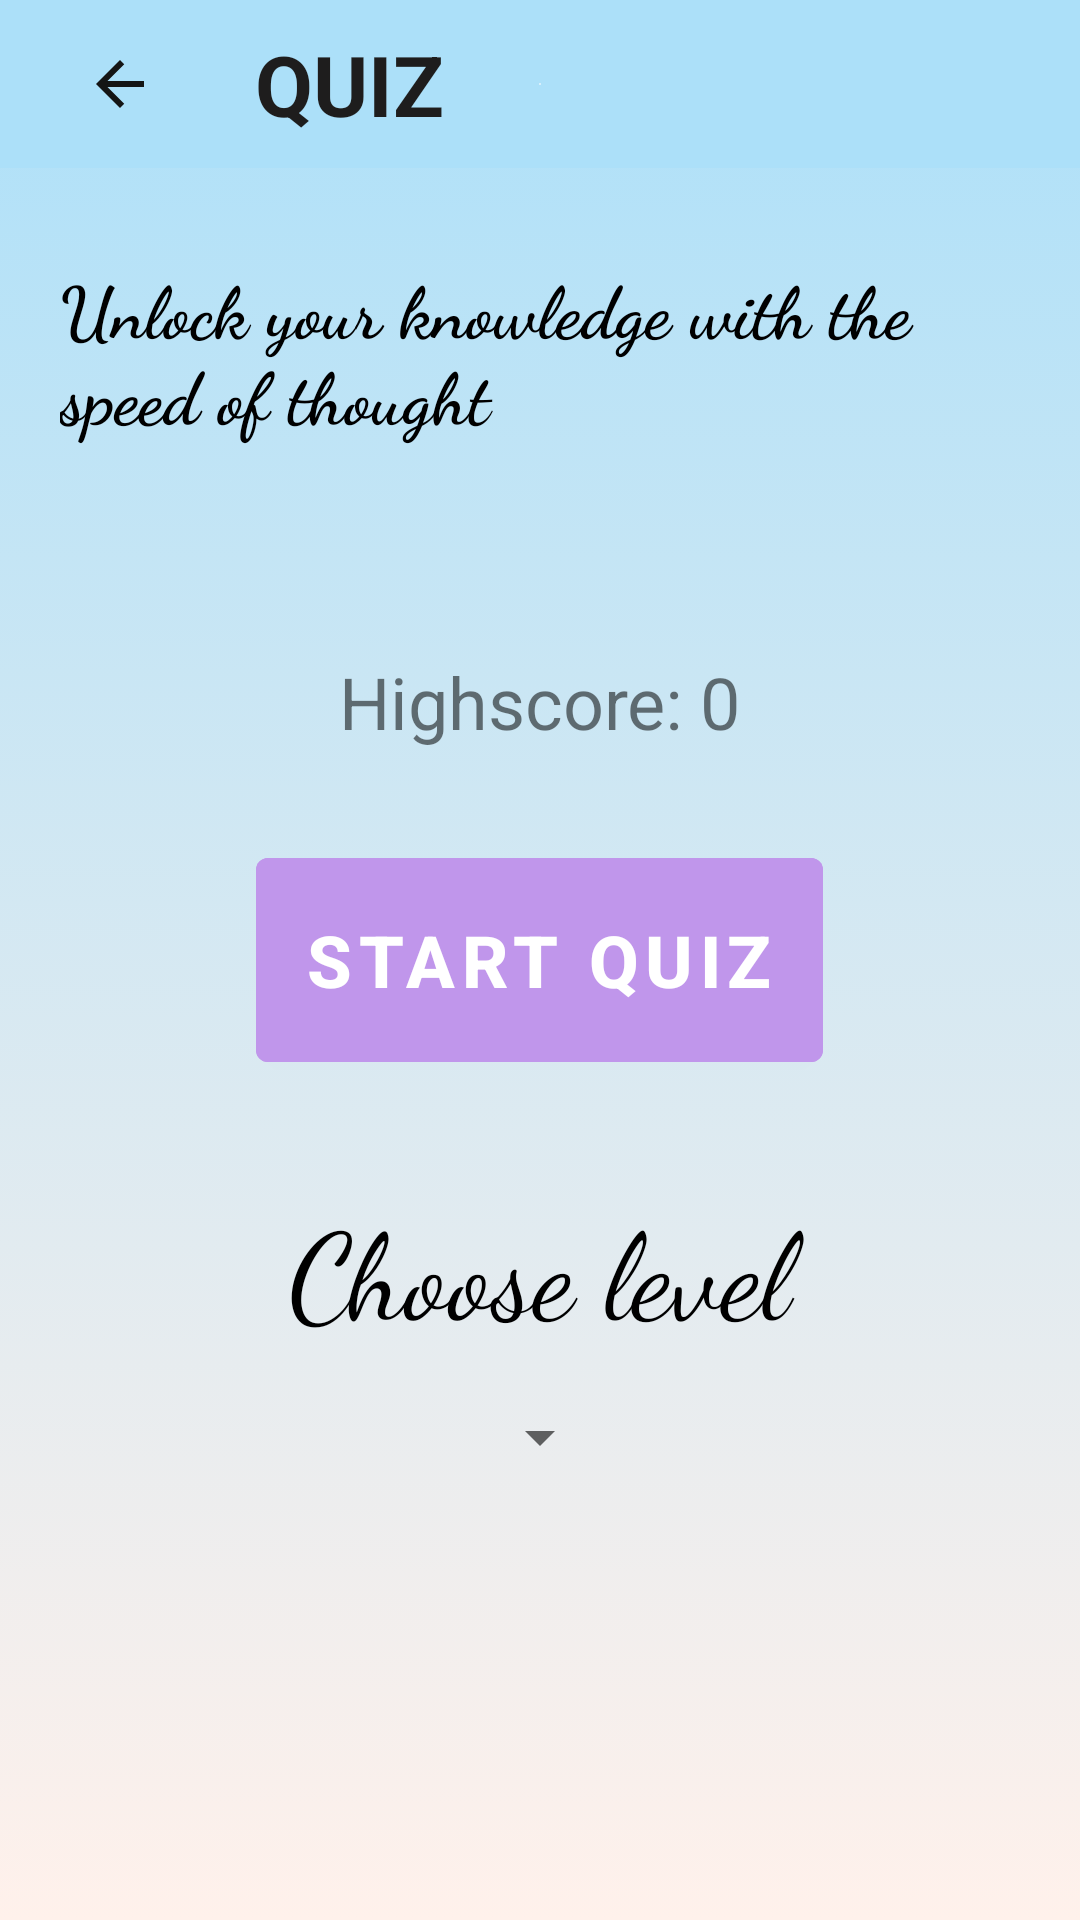

Screen size 1080px×1920px. Icon name, then its box in pixels as (x1, y1, x2, y2):
back: (96, 60, 144, 108)
